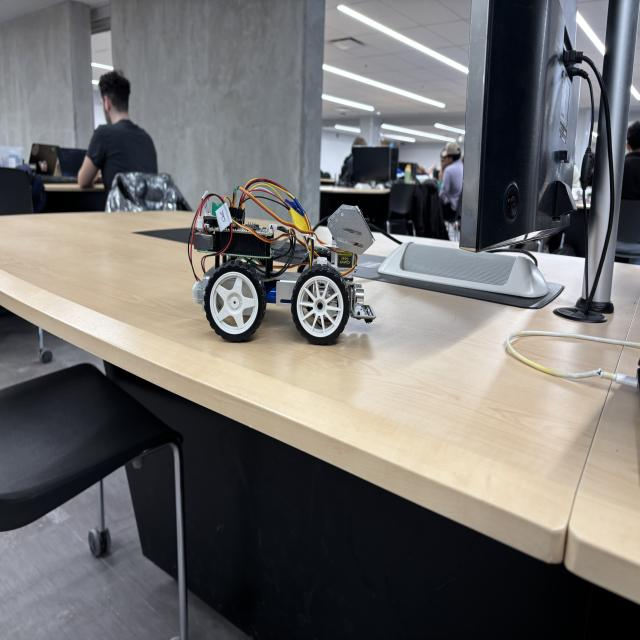vehicle: (189, 176, 378, 341)
